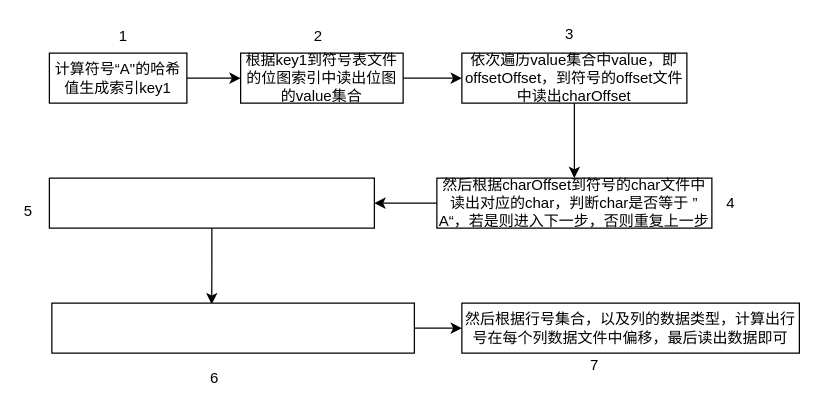
This 821x411 diagram has some shape labels left out. Here are the shapes that lost their labels. From the top down, the centre of each, then its label:
At pixel 211 202: "根据offsetOffset计算出symIndex, 即symIndex = (offsetOffset - 64) / 8".
At pixel 232 327: "然后根据symIndex, 到列索引文件中读取symIndex对应的位图的value集合，该集合即为数据的行号集合".
